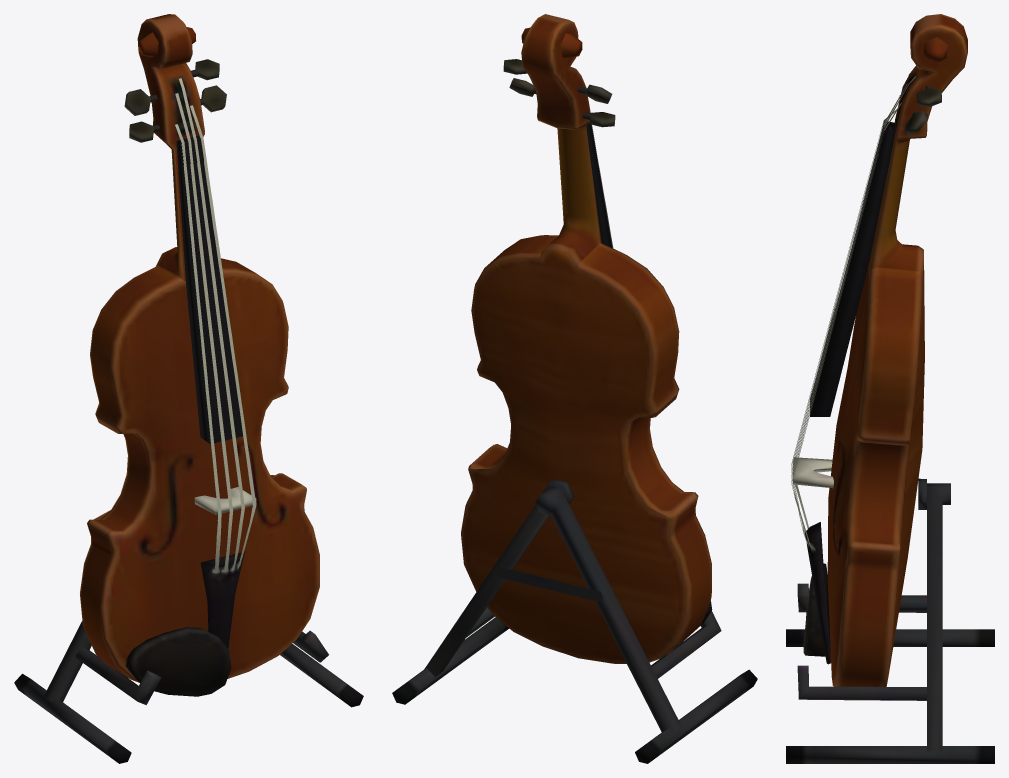
The picture shows the model from 3 angles, left to right: view 1: azimuth 30°, elevation 25°; view 2: azimuth 150°, elevation 25°; view 3: azimuth 270°, elevation 25°; orthographic projection. The views are drawn at different scales.
Bounding box in the file's own units: 3.92 × 9.98 × 2.76.
Materials: 2 (2 with a texture image).
